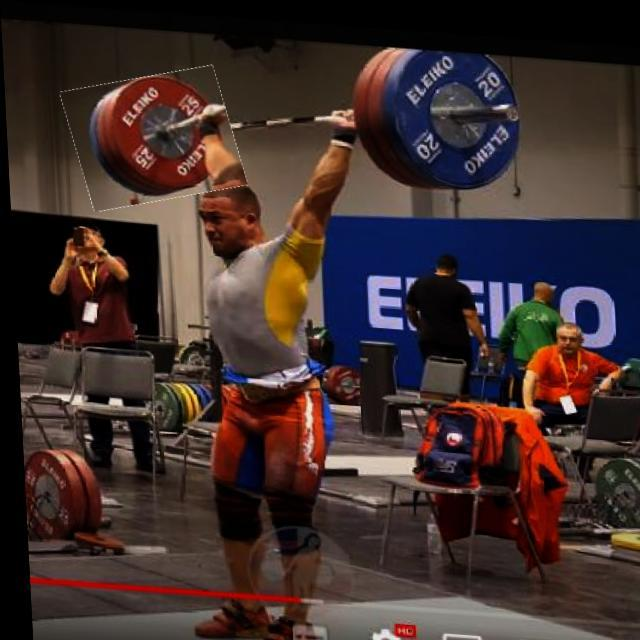barbell: (65, 63, 243, 211)
